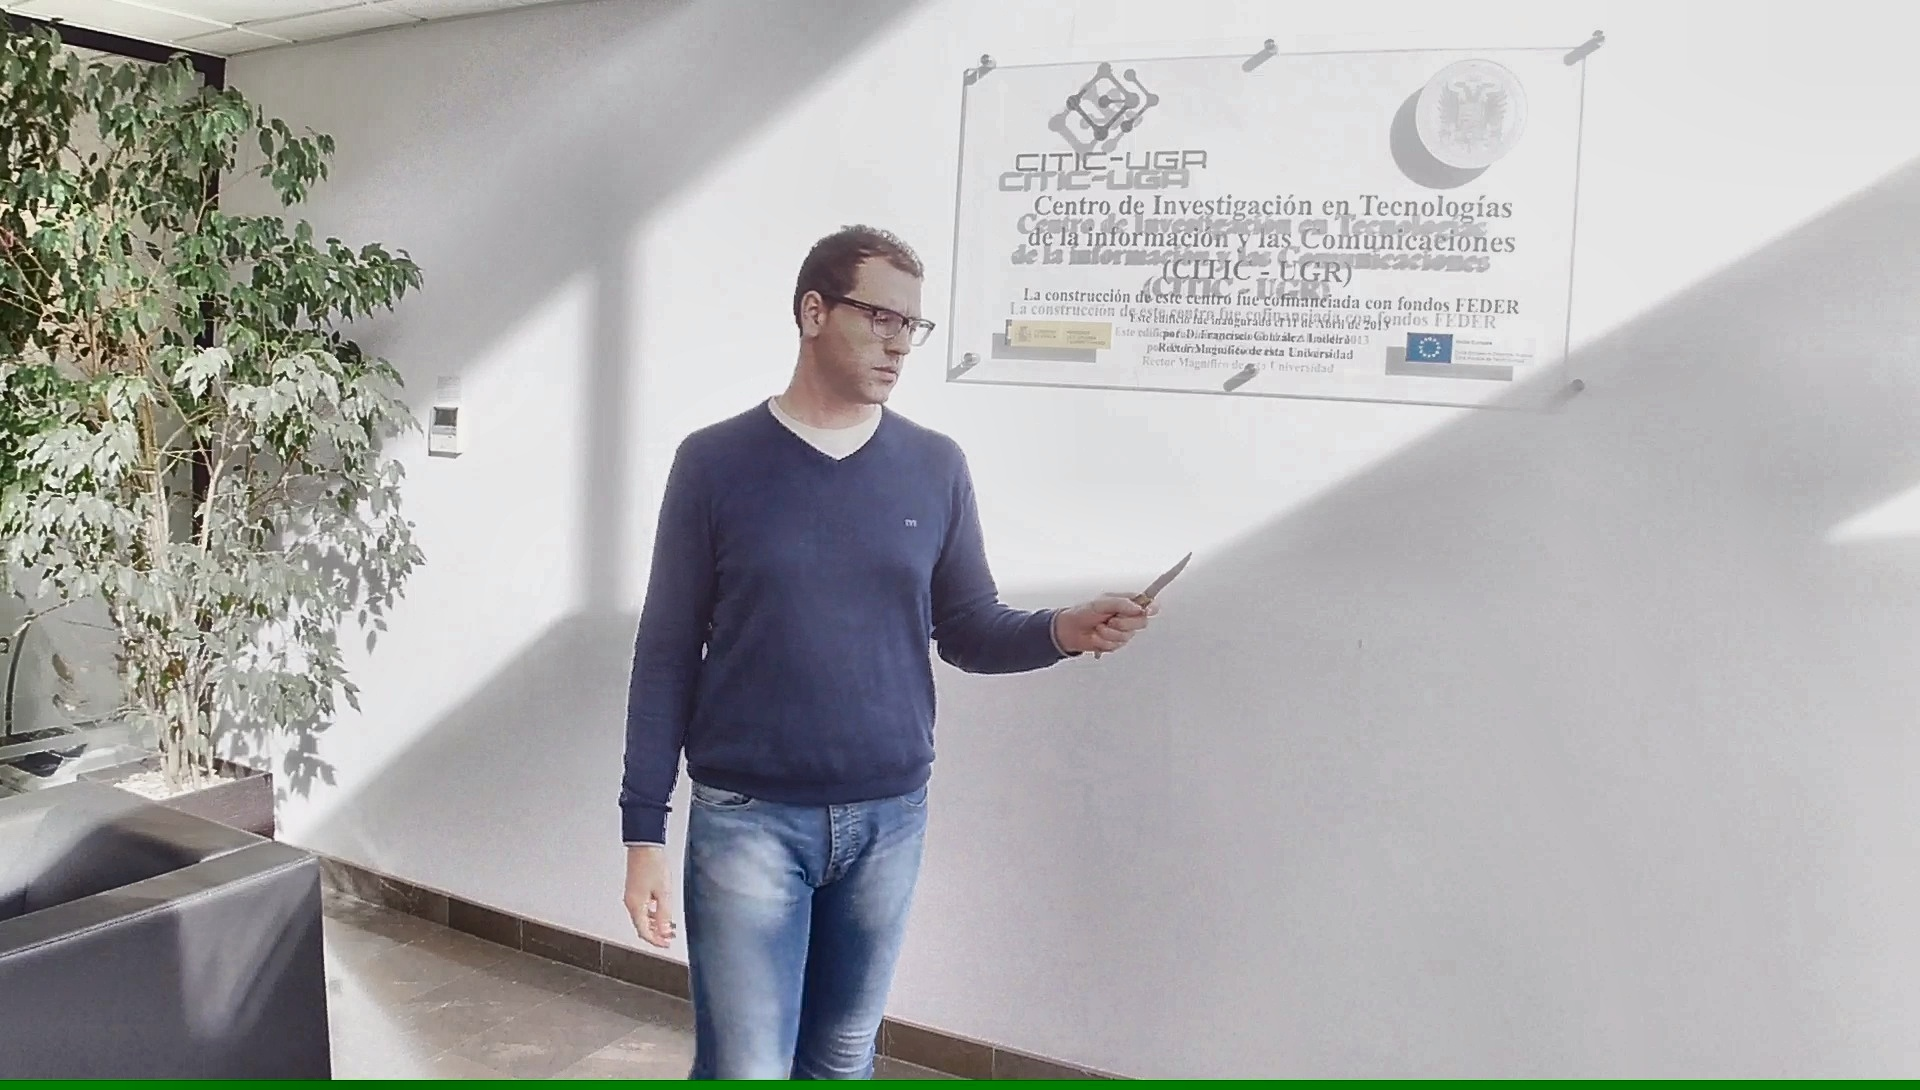knife: (1087, 544, 1200, 670)
